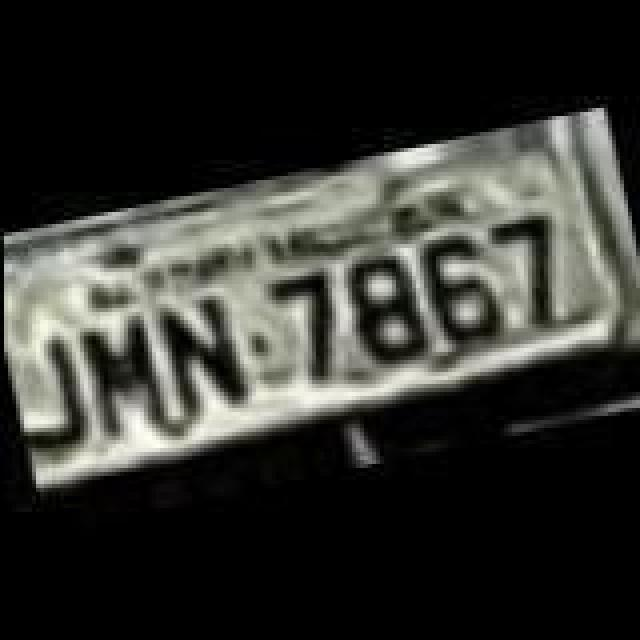6: (414, 224, 506, 352)
7: (484, 200, 580, 328), (258, 264, 350, 392)
8: (336, 244, 432, 364)
J: (4, 326, 92, 458)
M: (70, 308, 178, 444)
N: (146, 278, 254, 426)
